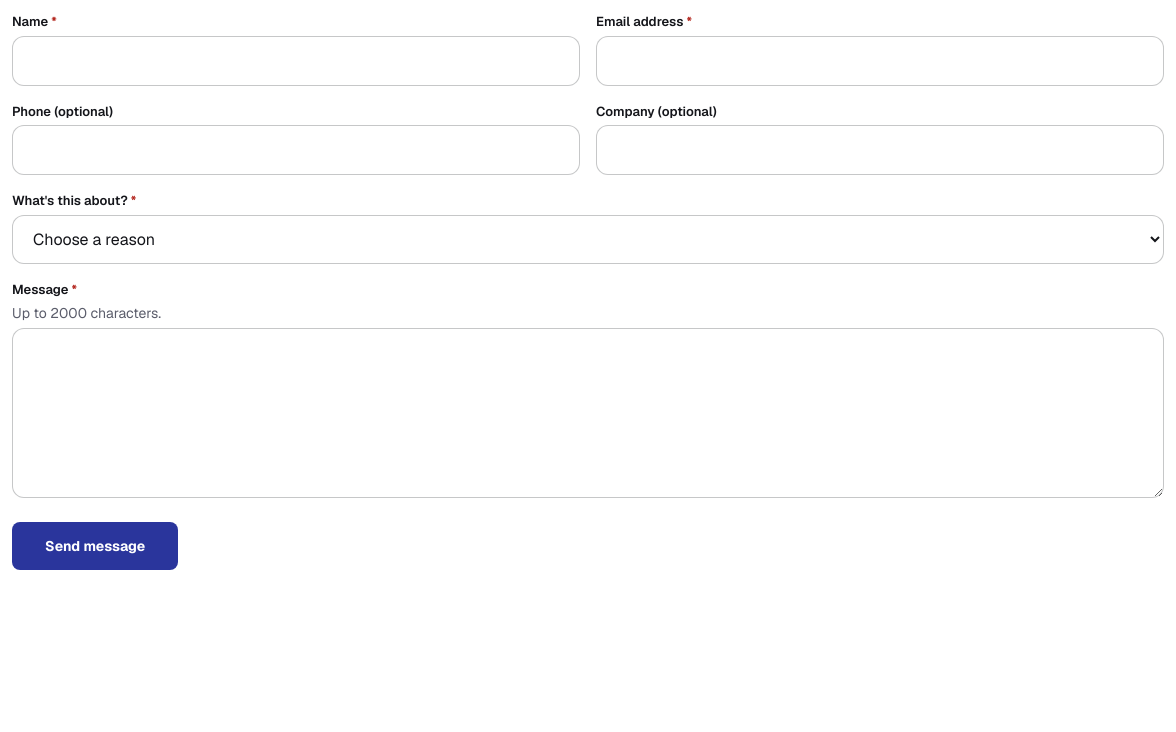
Test: ContactForm › clears a previously chosen product when the reason changes away from Product question
Select "Product question" in the dropdown labelled "What's this about? *" at (588, 239), box [12,214,1164,264]
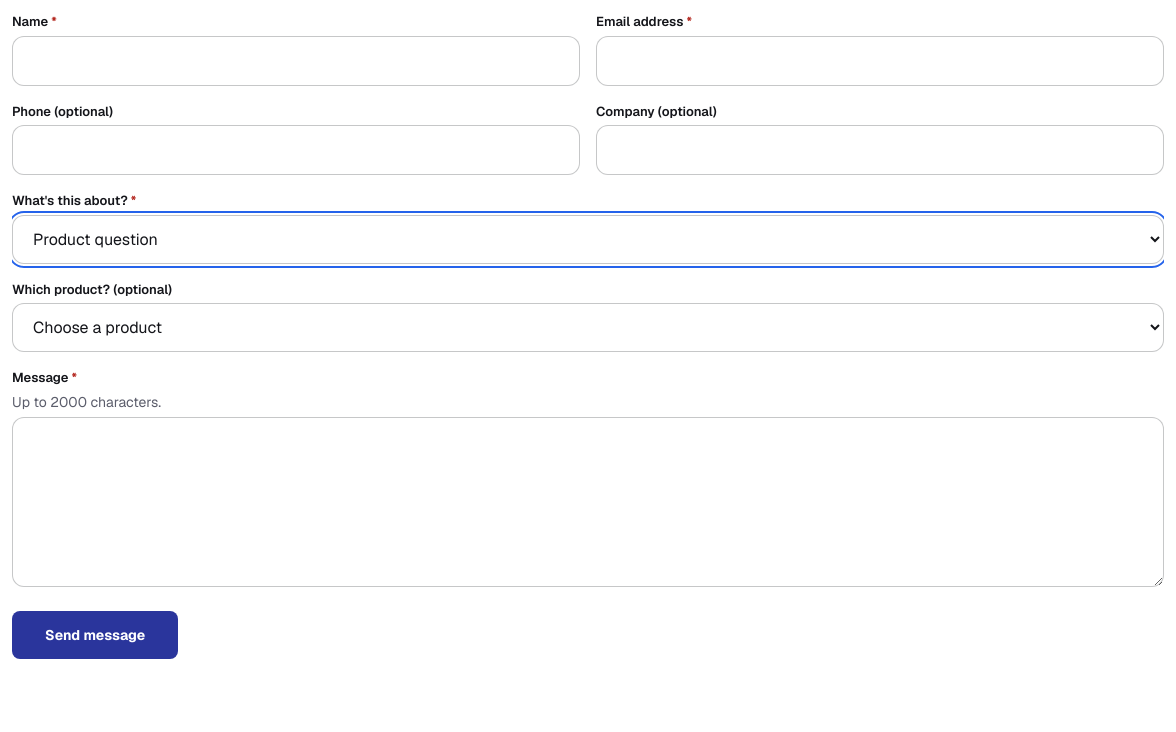
Select "MESA" in the dropdown labelled "Which product? (optional)" at (588, 328), box [12,303,1164,352]
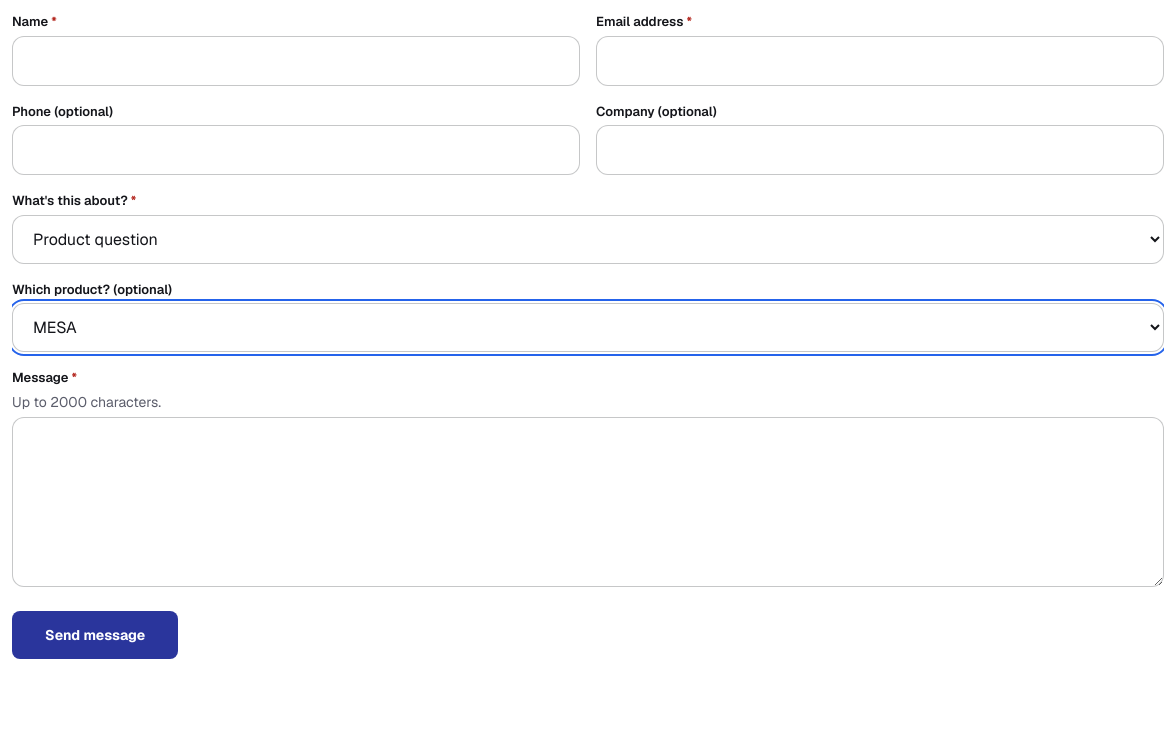
Select "General enquiry" in the dropdown labelled "What's this about? *" at (588, 239), box [12,214,1164,264]
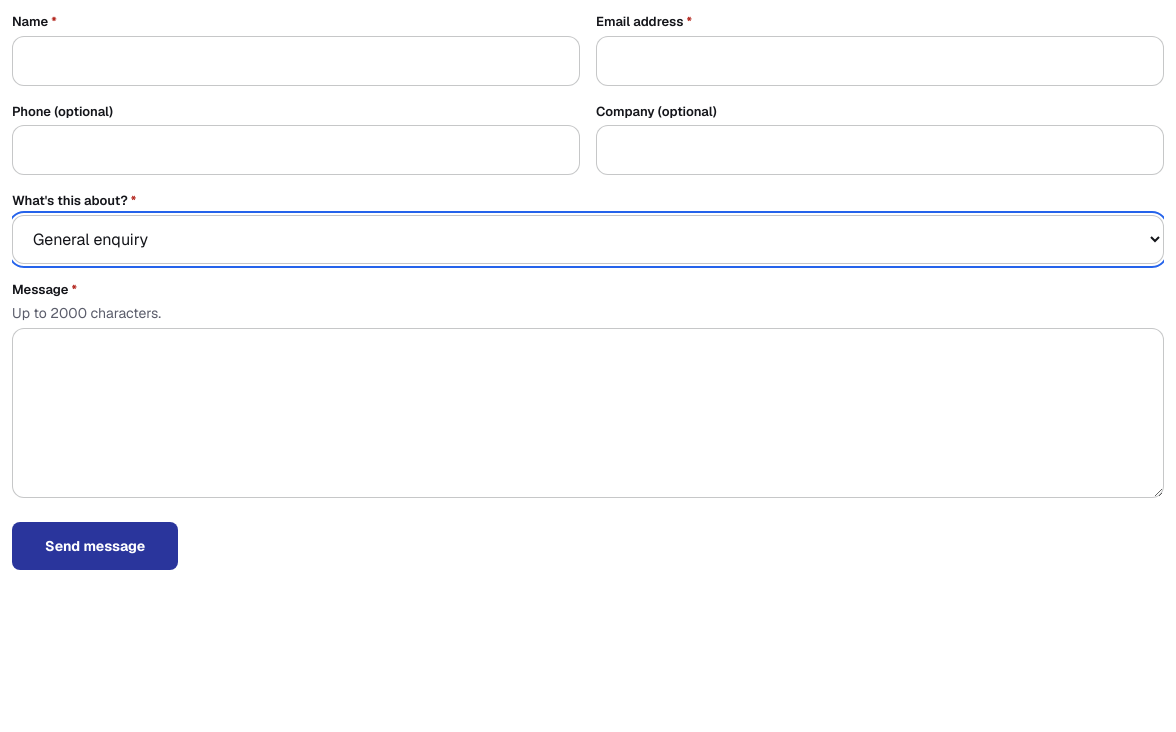
Expected: the label labelled "Which product" is gone
